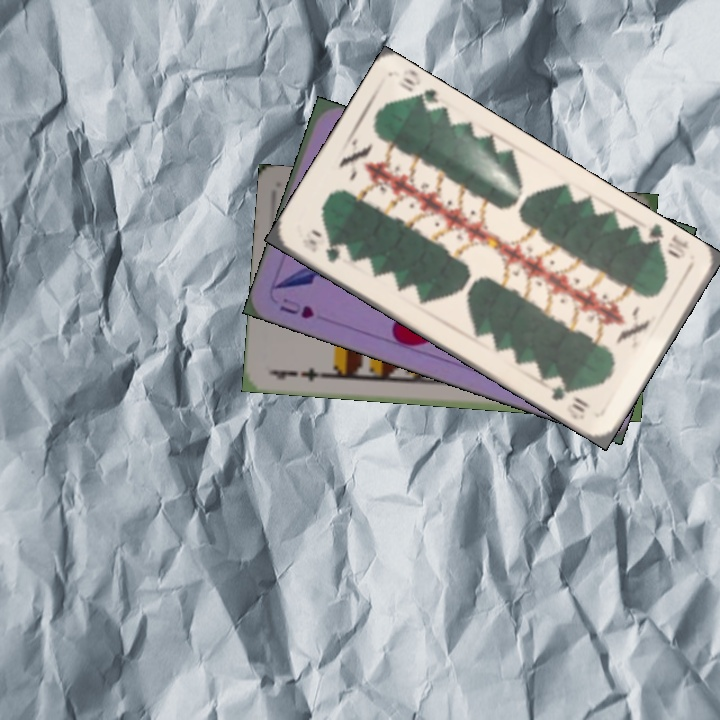E7: (268, 364, 327, 384)
G10: (635, 221, 692, 262), (305, 234, 343, 266)
HU: (275, 301, 317, 322)
